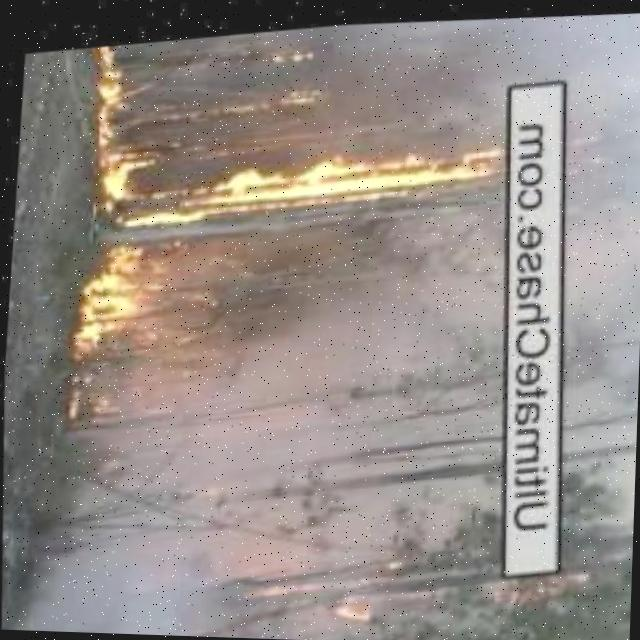fire: (150, 128, 542, 224), (63, 30, 175, 353), (450, 555, 609, 636), (192, 69, 332, 121), (327, 586, 394, 630)
